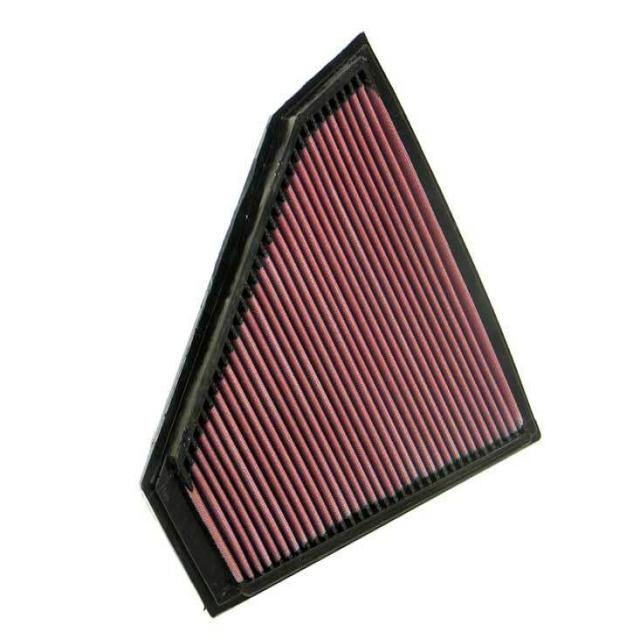air_filter: (142, 33, 540, 617)
